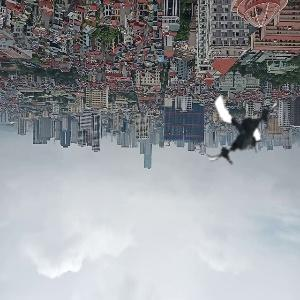drone: (198, 84, 287, 173)
